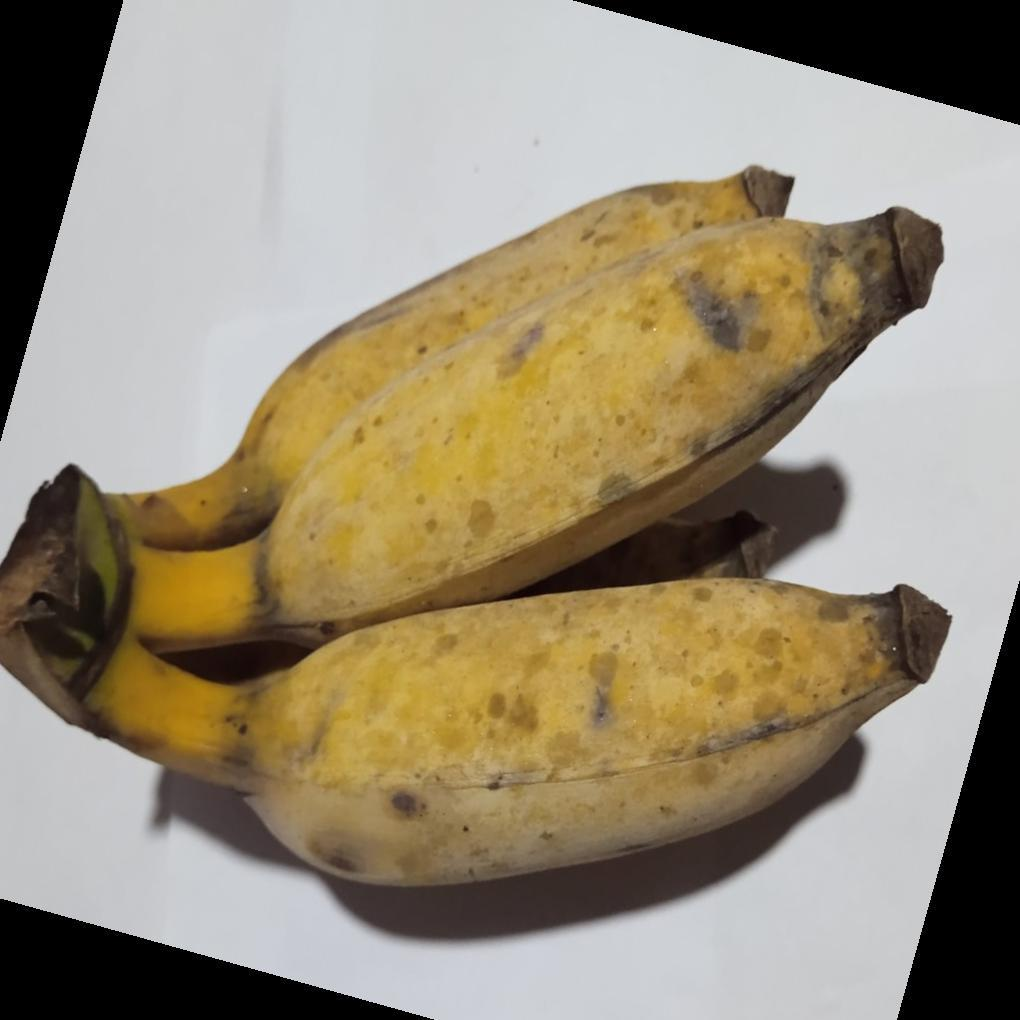Banana Ripe: (221, 432, 988, 962), (165, 153, 935, 596)
